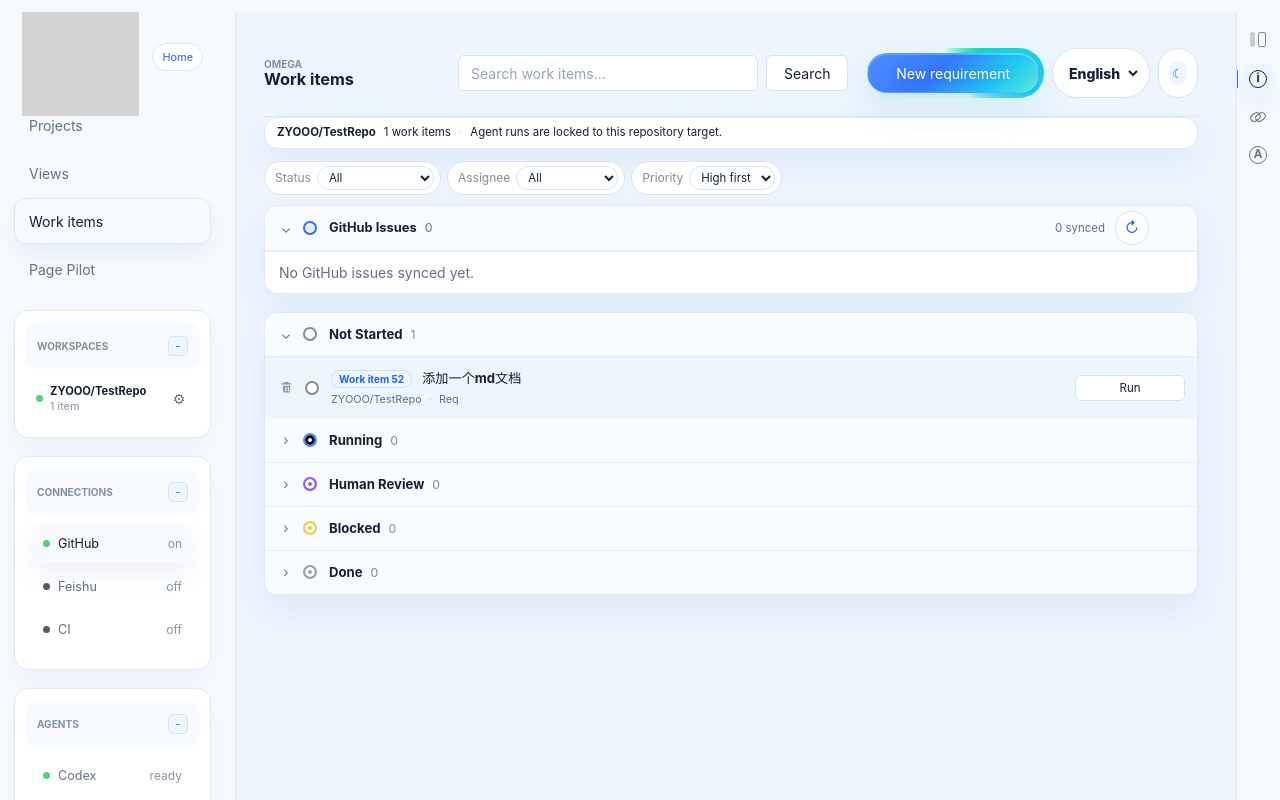
Test case: App operator view › runs repository work item buttons through the DevFlow PR cycle
This screenshot has width=1280, height=800.
Expected: the text "添加一个md文档" is shown, x1=422 y1=370 x2=522 y2=386
Click the button "Run".
click(1130, 388)  # box x1=1075 y1=374 x2=1185 y2=400
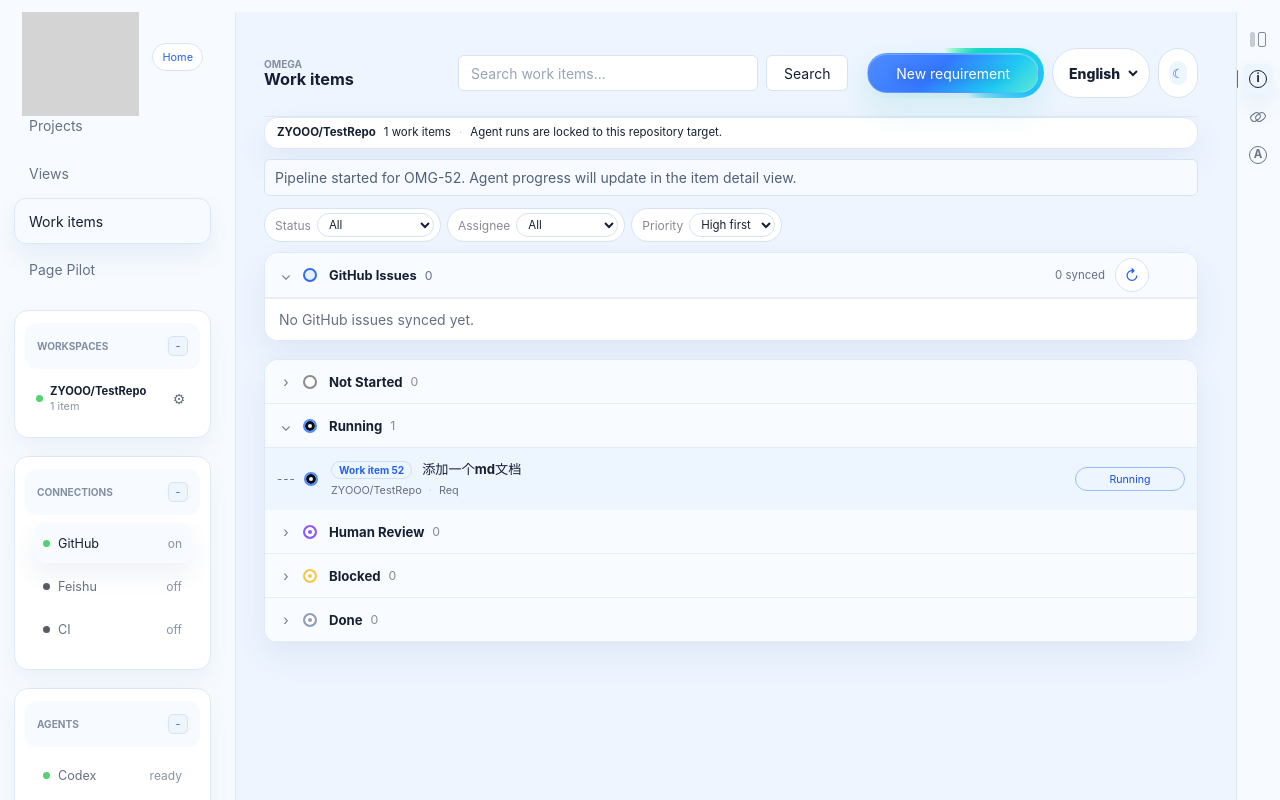
Expected: the text "Pipeline started for OMG-52" is shown, x1=275 y1=168 x2=797 y2=186
